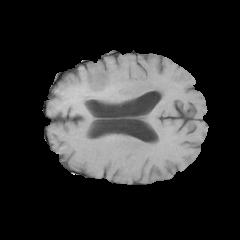glioma: (67, 61, 177, 114)
